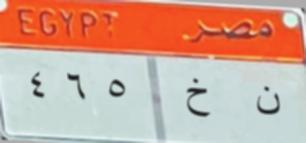4: (24, 68, 51, 105)
5: (103, 75, 134, 102)
6: (57, 68, 92, 105)
khaa: (177, 72, 214, 123)
noon: (252, 73, 284, 126)
